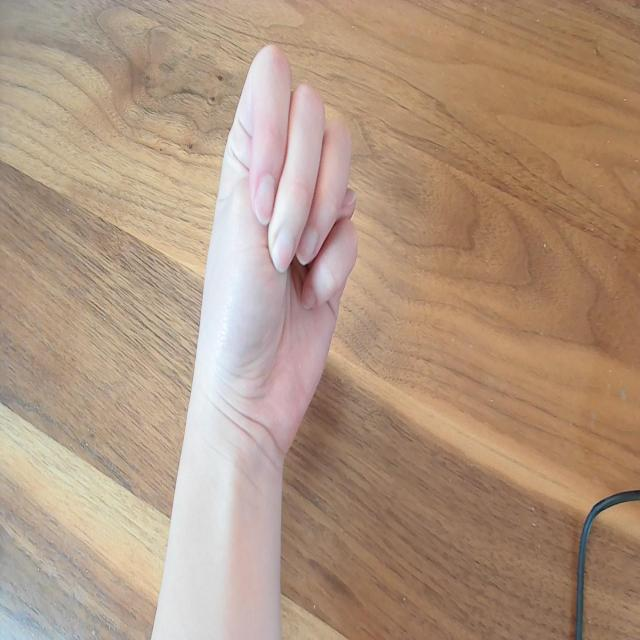M: (202, 41, 361, 447)
